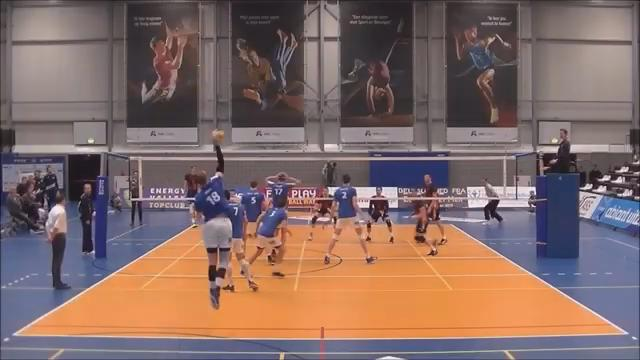battuta: (191, 135, 233, 312)
